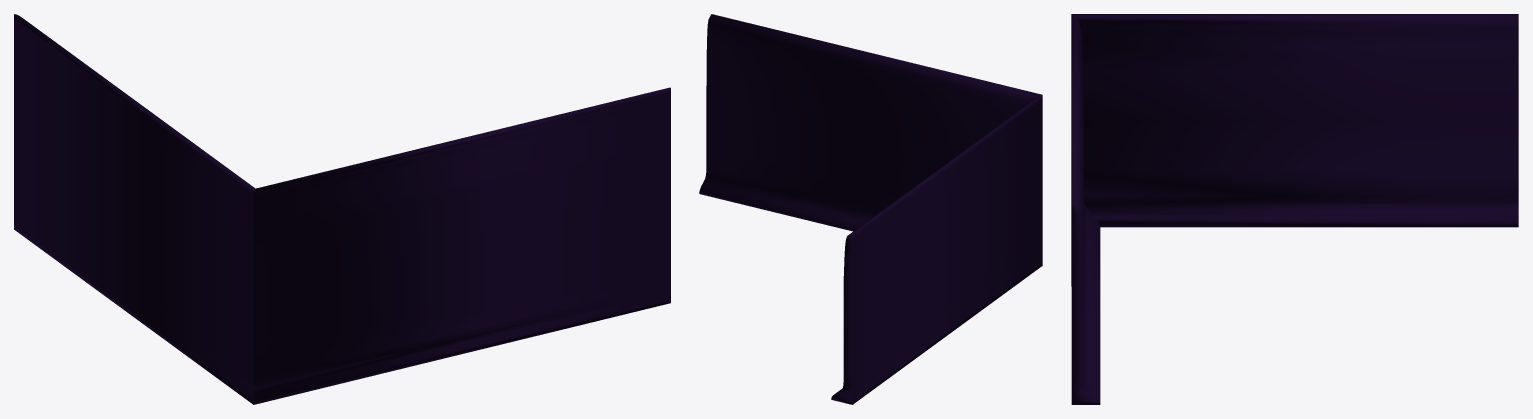
File: FloorboardInnerCorner.fbx
3 views of the same model, side by side, from view 1: azimuth 30°, elevation 25°; view 2: azimuth 150°, elevation 25°; view 3: azimuth 270°, elevation 25° (orthographic). The views are drawn at different scales.
Visible parts, largest first — view 1: FloorboardCorner; view 2: FloorboardCorner; view 3: FloorboardCorner.
Part boxes in pixels (x1,y1,x2,y2): FloorboardCorner: [14, 14, 670, 404]; FloorboardCorner: [699, 14, 1042, 404]; FloorboardCorner: [1071, 14, 1518, 404].
Bounding box in the file's own units: 4844 × 2392 × 4819.
